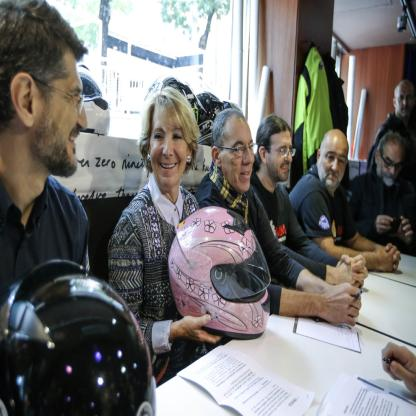Helmet: (0, 254, 157, 416), (171, 212, 271, 349)
